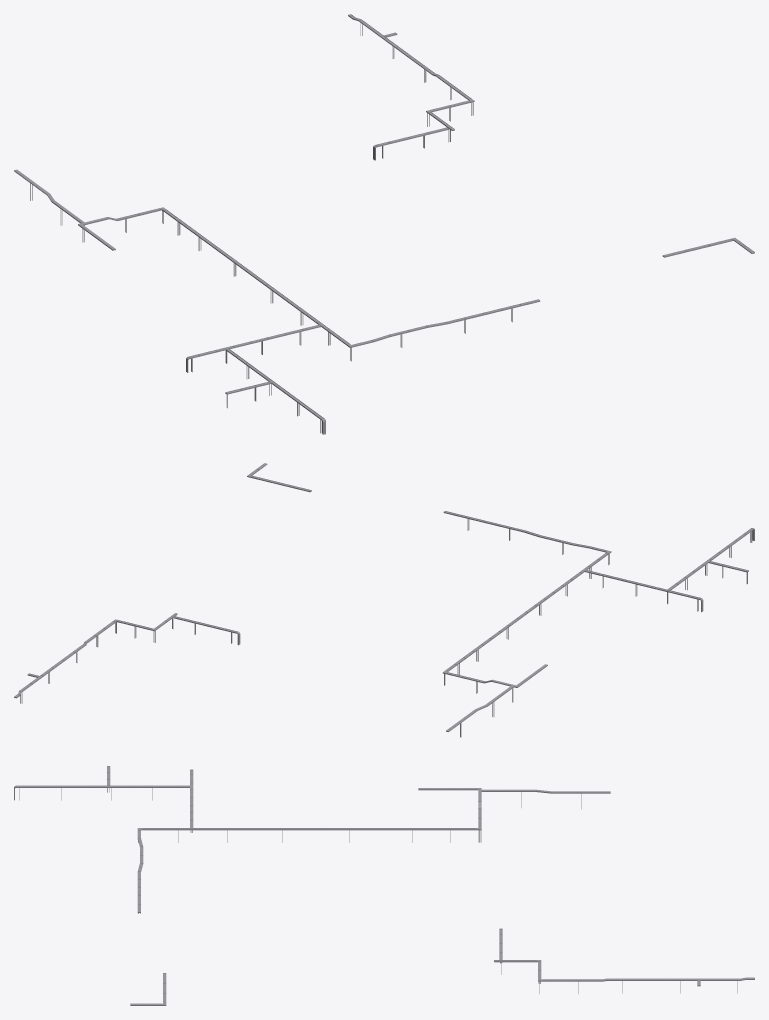
3 renders of one model, top to bottom at view 1: azimuth 30°, elevation 25°; view 2: azimuth 150°, elevation 25°; view 3: azimuth 270°, elevation 25°, orthographic. The views are drawn at different scales.
Visible parts, largest first — view 1: 新建电缆桥架; view 2: 新建电缆桥架; view 3: 新建电缆桥架.
Boxes of the visible parts, left/top/right/bottom form: 新建电缆桥架: left=14, top=14, right=754, bottom=434; 新建电缆桥架: left=14, top=463, right=754, bottom=737; 新建电缆桥架: left=14, top=766, right=754, bottom=1005.
Size of the model in its own units: 221 by 7.5 by 290.
Materials: 1 (1 with a texture image).
